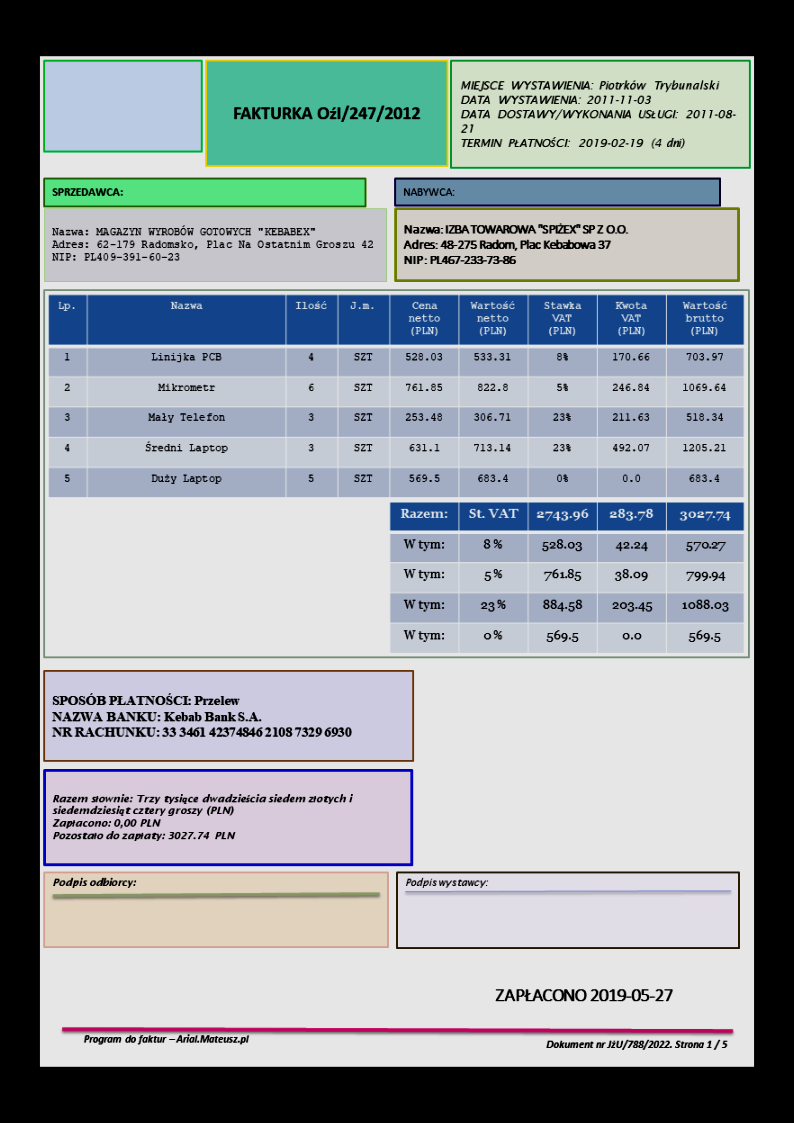Table: (47, 292, 744, 498), (389, 502, 744, 654)
TextBox: (456, 77, 737, 151), (51, 791, 356, 843), (51, 691, 353, 740), (50, 225, 374, 264), (401, 223, 628, 267), (230, 104, 422, 124), (492, 984, 676, 1004), (544, 1037, 729, 1052), (79, 1032, 252, 1046), (50, 875, 137, 890), (50, 185, 124, 200), (404, 876, 489, 889), (400, 184, 456, 200)
